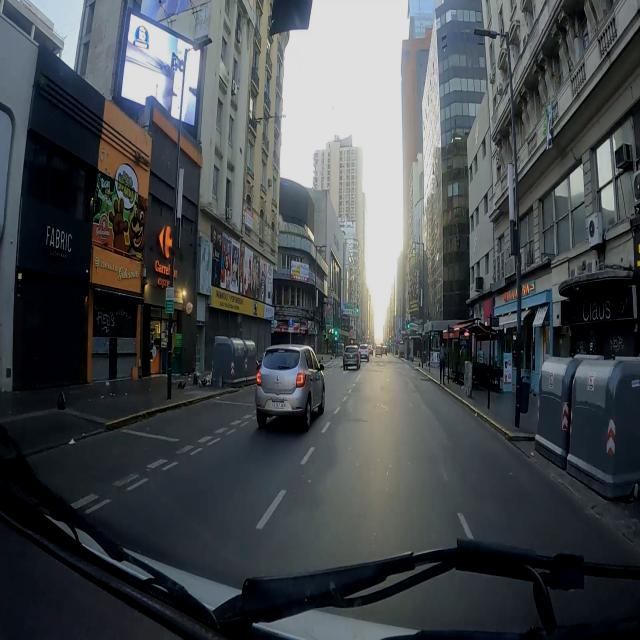car: (255, 345, 324, 430), (343, 345, 360, 370), (359, 344, 369, 362), (375, 345, 382, 357), (382, 345, 387, 355), (369, 345, 373, 355)
